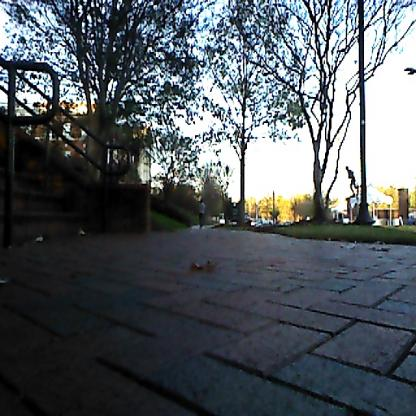Edge: (0, 217, 152, 259), (272, 225, 416, 260)
Sidewalk: (0, 227, 416, 416)
